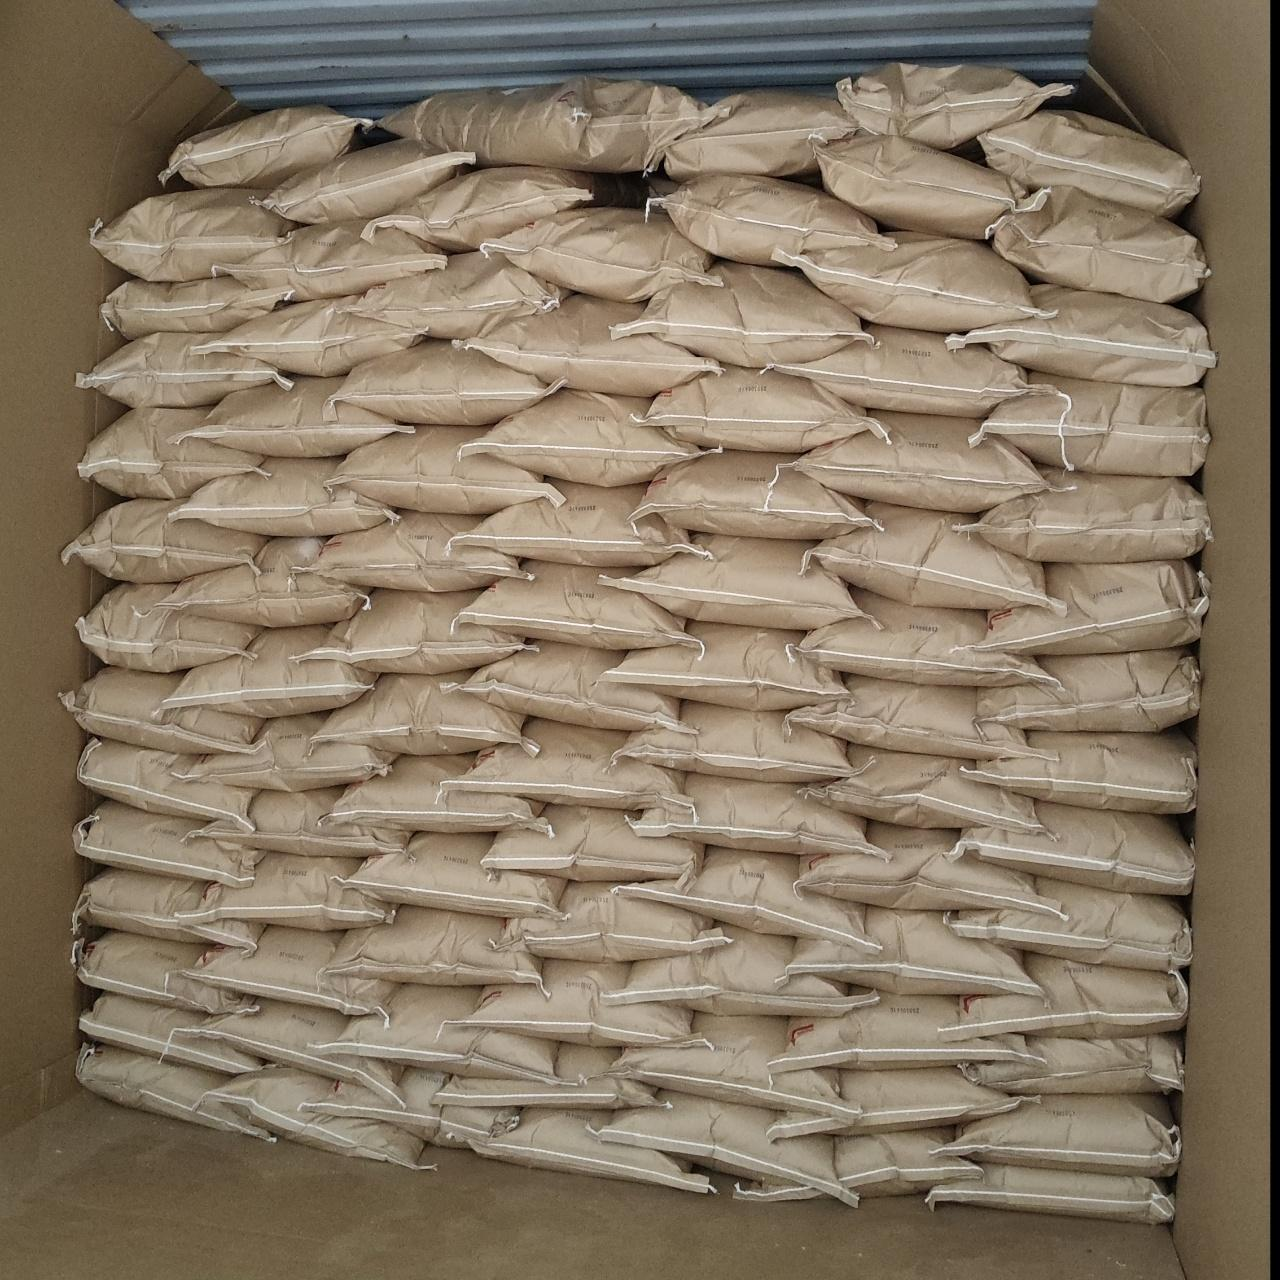sack: (378, 74, 712, 170), (590, 1092, 858, 1206), (806, 502, 1062, 612), (454, 294, 718, 396), (766, 324, 1062, 414), (620, 848, 876, 950), (616, 262, 862, 366), (948, 286, 1214, 382), (798, 590, 1058, 688), (794, 412, 1046, 510), (786, 234, 1034, 332), (990, 190, 1206, 302), (460, 390, 710, 486), (972, 374, 1206, 476), (812, 136, 1044, 238), (606, 928, 874, 1014), (948, 800, 1192, 894), (978, 110, 1198, 214), (606, 536, 854, 628), (610, 1014, 846, 1110), (798, 822, 1054, 910), (206, 1068, 432, 1166), (450, 480, 704, 566), (324, 984, 556, 1078), (646, 176, 892, 264), (950, 876, 1190, 966), (786, 674, 1042, 758), (978, 562, 1206, 654), (482, 210, 710, 302), (636, 368, 884, 452), (634, 452, 874, 538), (462, 960, 702, 1046), (970, 472, 1208, 558), (606, 622, 844, 708), (944, 954, 1186, 1038), (788, 908, 1034, 990), (468, 1109, 711, 1192), (632, 774, 884, 854), (804, 746, 1042, 830), (456, 720, 686, 806), (450, 642, 680, 728), (326, 906, 546, 994), (966, 728, 1196, 812), (836, 64, 1066, 148), (770, 994, 1024, 1070), (732, 1127, 980, 1204), (198, 1000, 400, 1094), (460, 562, 686, 646), (364, 168, 594, 250), (162, 628, 374, 716), (330, 426, 552, 510), (344, 834, 566, 918), (770, 1068, 1026, 1140), (176, 376, 412, 454), (614, 702, 850, 780), (152, 540, 366, 626), (296, 590, 524, 670), (78, 1044, 268, 1140), (184, 928, 396, 1014), (654, 90, 856, 180), (90, 190, 294, 278), (950, 1096, 1180, 1174), (262, 138, 474, 222), (216, 222, 444, 300), (336, 342, 558, 422), (350, 254, 566, 336), (496, 882, 728, 958), (190, 298, 422, 374), (978, 648, 1198, 728), (300, 1067, 517, 1148), (302, 512, 524, 590), (316, 674, 534, 752), (170, 458, 392, 534), (326, 756, 548, 832), (62, 498, 266, 580), (60, 668, 262, 750), (178, 714, 394, 790), (160, 108, 364, 188), (78, 738, 254, 830), (482, 804, 700, 878), (74, 800, 260, 886), (76, 584, 260, 670), (188, 852, 394, 928), (80, 408, 262, 494), (432, 1044, 664, 1110), (74, 868, 260, 950), (76, 336, 292, 406), (76, 930, 256, 1014), (80, 992, 266, 1072), (190, 788, 410, 854), (926, 1164, 1172, 1222), (962, 1034, 1182, 1092), (102, 280, 284, 338)
